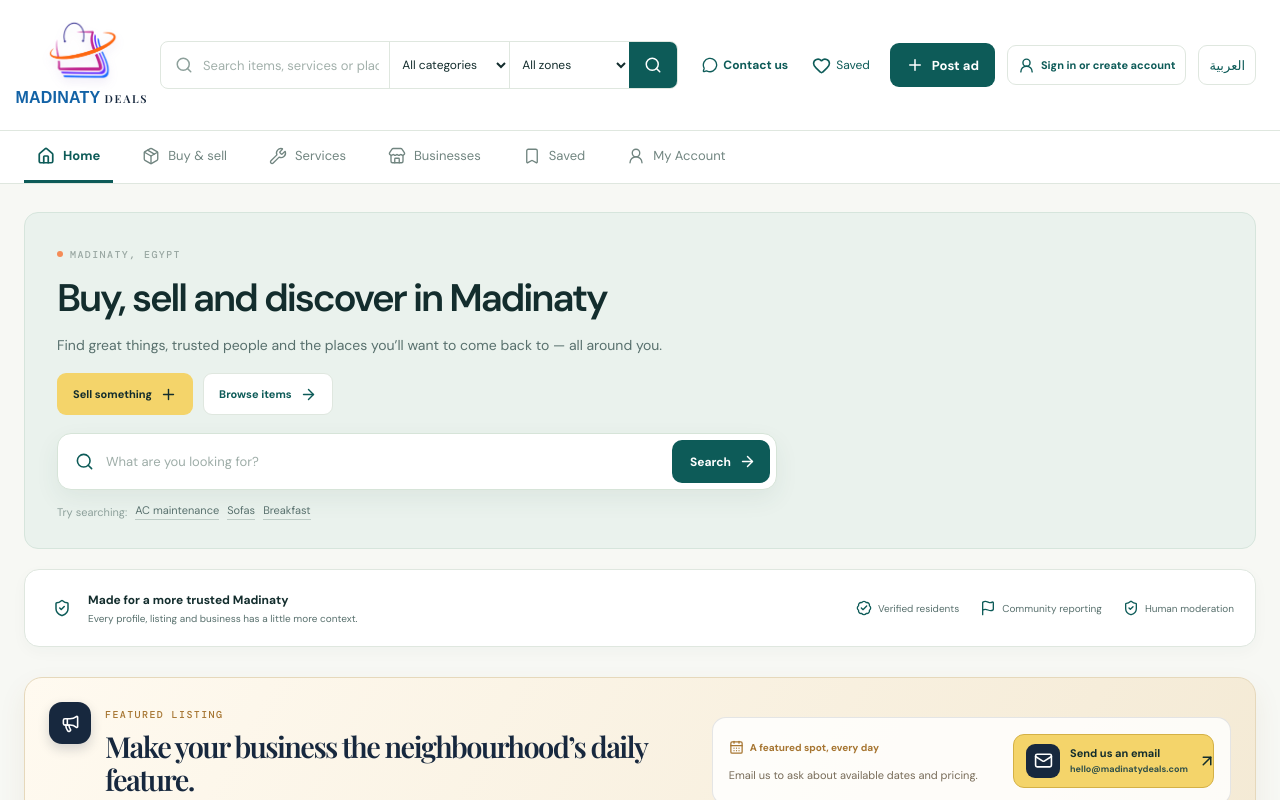
Scenario: ignores a forged local registration flag and requires real sign-in
Click the button "Sign in or create account".
click(1097, 65)  # box [1007, 45, 1186, 85]
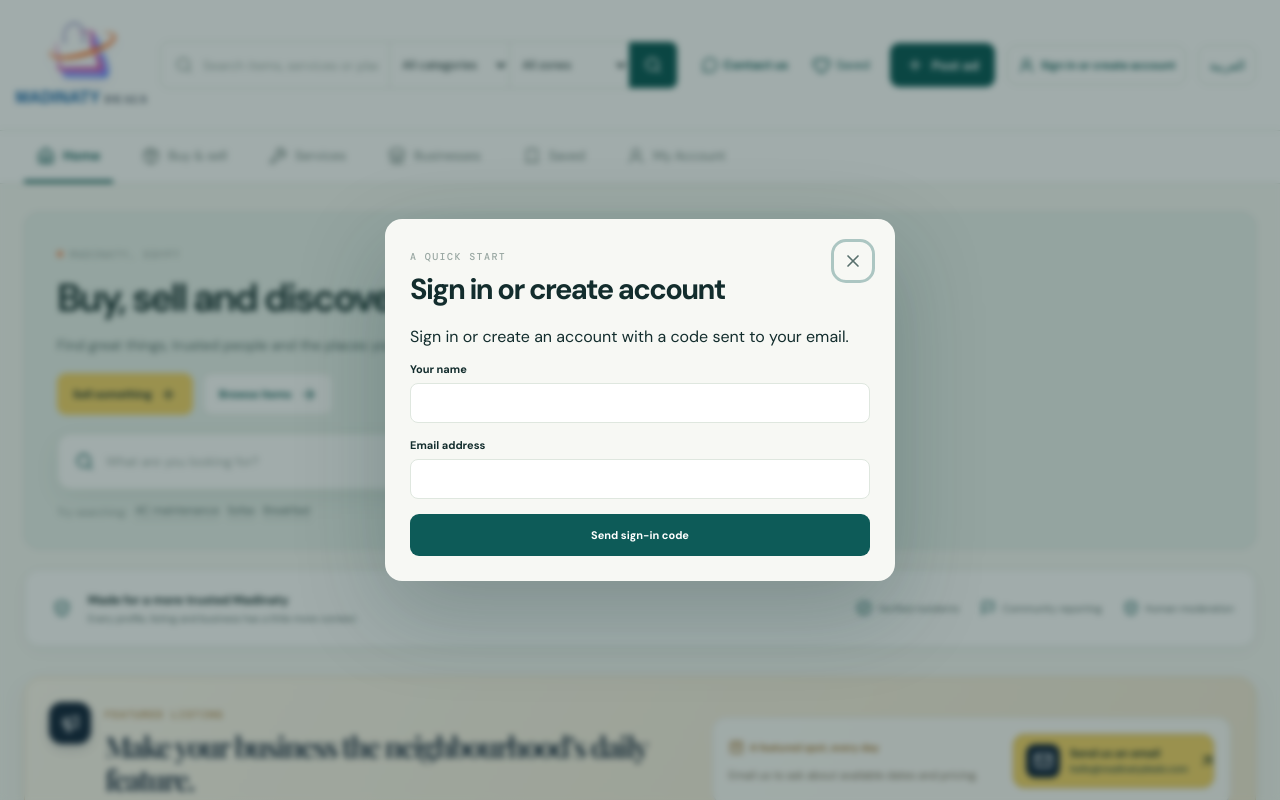
Expected: the dialog "Sign in or create account" is shown, [385, 219, 895, 581]
Expected: the button "Send sign-in code" is shown, [410, 514, 870, 556]
